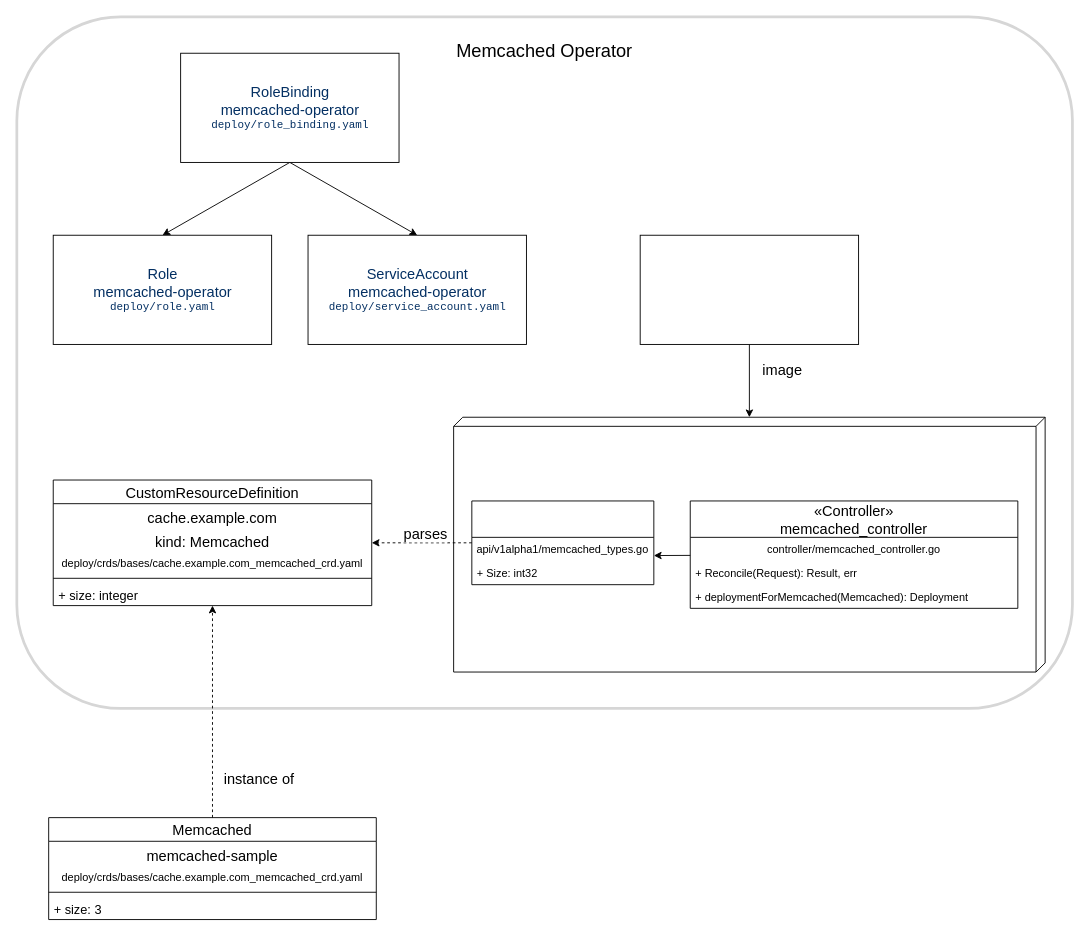
Image size: 1089x938. Some labels were removed from this diagram. The shapes that lost their labels are listed below. From the top down, each one's box as (x1, y1, x2, y2) in pixels, then its label:
(639, 234, 859, 344): Deployment memcached-operator deploy/operator.yaml
(471, 500, 654, 585): «API» memcached_types
(453, 416, 1045, 672): « Container » memcached-operator
